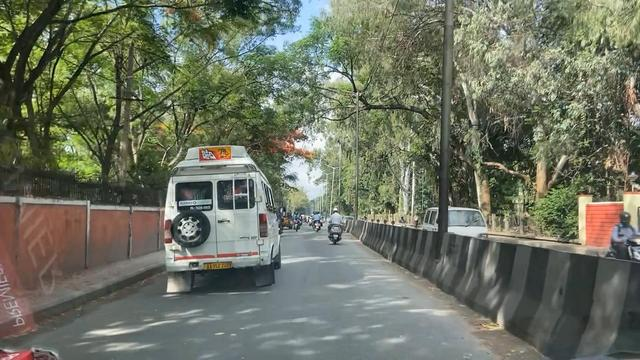HMV: (169, 155, 273, 285)
LMV: (330, 209, 342, 242), (313, 210, 324, 231)
